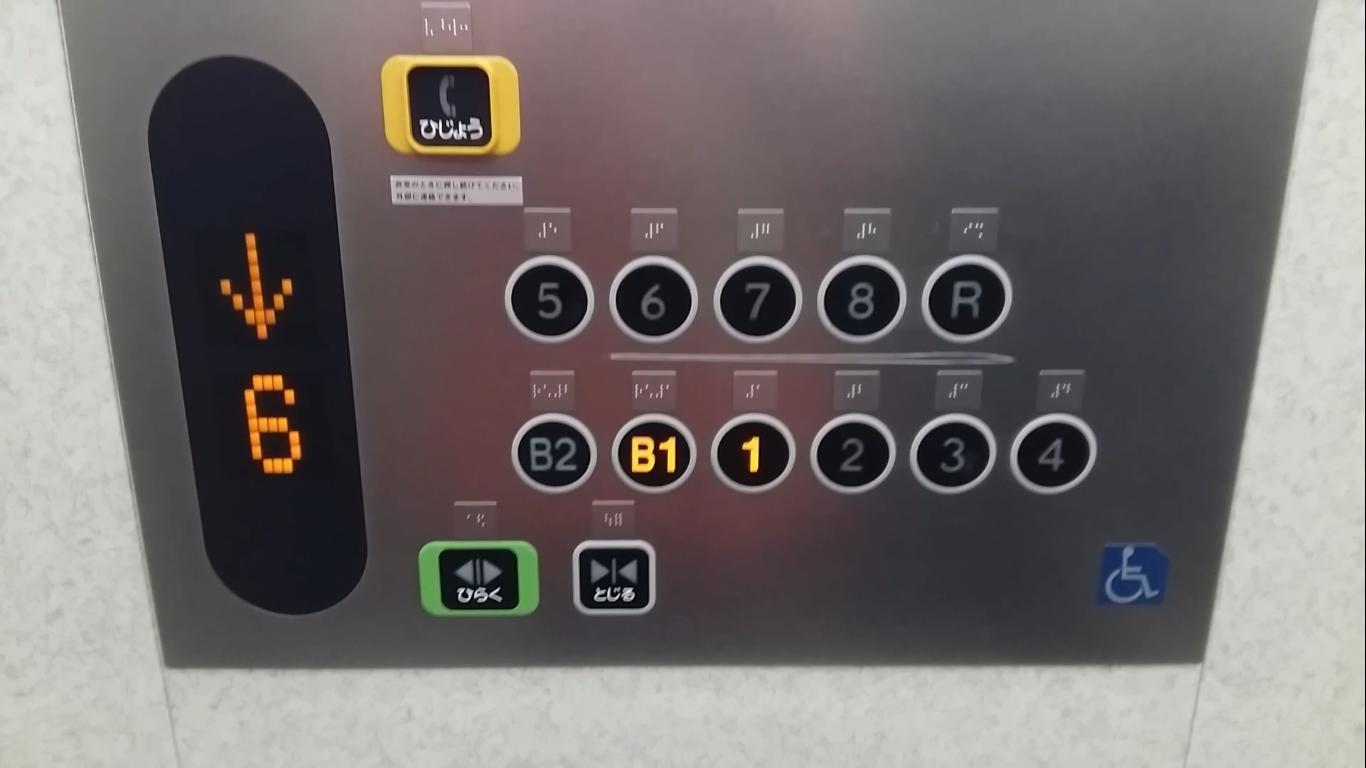1: (705, 402, 799, 500)
2: (804, 407, 899, 505)
3: (902, 405, 1000, 501)
4: (1003, 406, 1100, 500)
5: (495, 250, 602, 346)
6: (600, 251, 703, 350)
7: (701, 246, 808, 350)
8: (812, 241, 911, 348)
B1: (606, 405, 700, 496)
B2: (510, 404, 598, 498)
call: (374, 43, 523, 162)
close: (563, 528, 662, 626)
led: (144, 53, 372, 615)
open: (409, 529, 546, 622)
unknown: (909, 241, 1018, 353), (1095, 541, 1166, 605)
